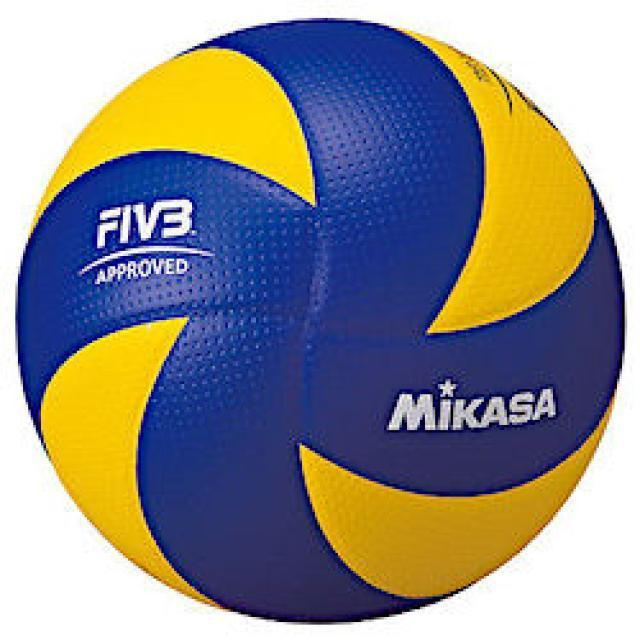volleyball: (15, 19, 625, 626)
